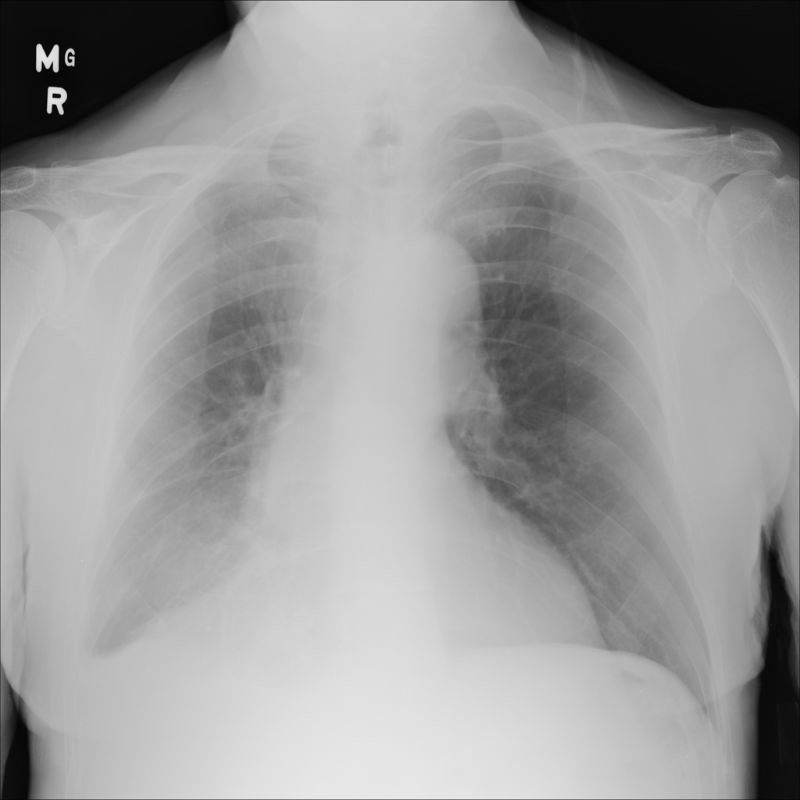PLEURAL EFFUSION: (76, 594, 170, 732)
